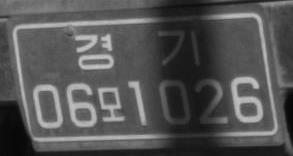0: (158, 78, 192, 127), (31, 82, 63, 129)
1: (126, 80, 152, 126)
2: (194, 77, 229, 126)
6: (229, 74, 264, 123), (65, 82, 99, 128)
경기_D: (73, 28, 202, 69)
모: (97, 85, 125, 123)
